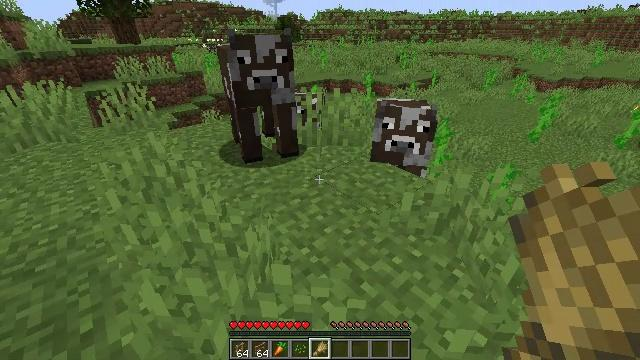cow: (218, 33, 299, 158), (370, 102, 439, 173), (300, 92, 325, 132)
